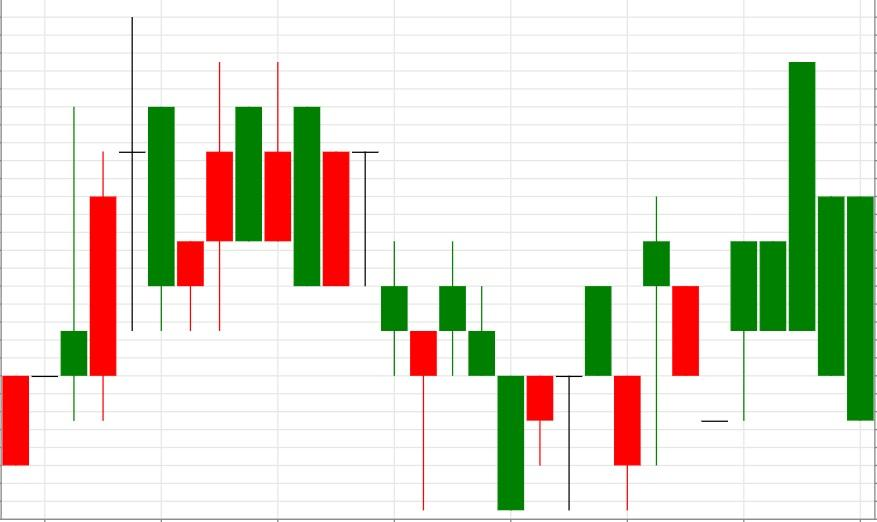three_black_crows_fall: (409, 240, 525, 511)
